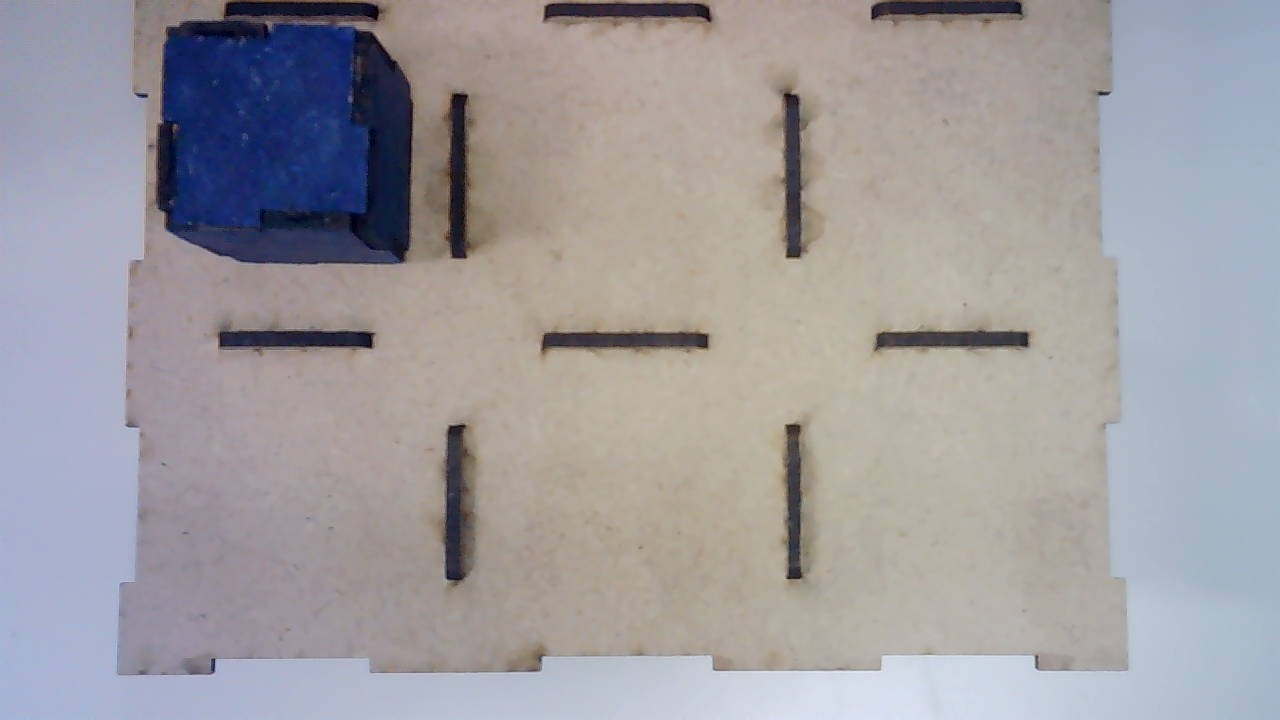blue box: (155, 20, 410, 261)
